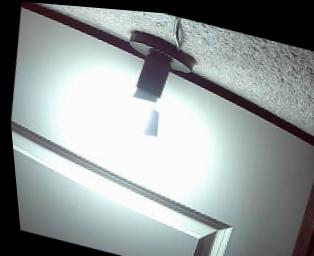TubeLight: (113, 91, 160, 138)
